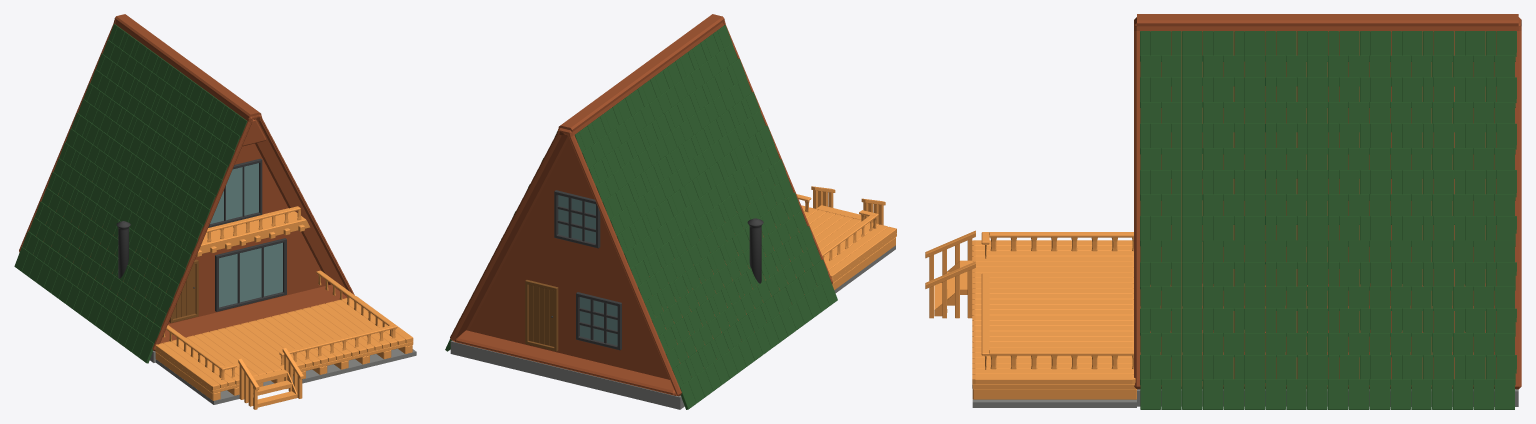
Rendered from house.glb.
The picture shows the model from 3 angles, left to right: view 1: azimuth 30°, elevation 25°; view 2: azimuth 150°, elevation 25°; view 3: azimuth 270°, elevation 25°; orthographic projection. The views are drawn at different scales.
Visible parts, largest first — view 1: cabin; view 2: cabin; view 3: cabin.
Part boxes in pixels (box(x1,y1,x2,y2)): cabin: box(14, 14, 416, 409); cabin: box(445, 14, 896, 409); cabin: box(925, 14, 1521, 409).
Size of the model in its own units: 1091 by 1092 by 1845.
